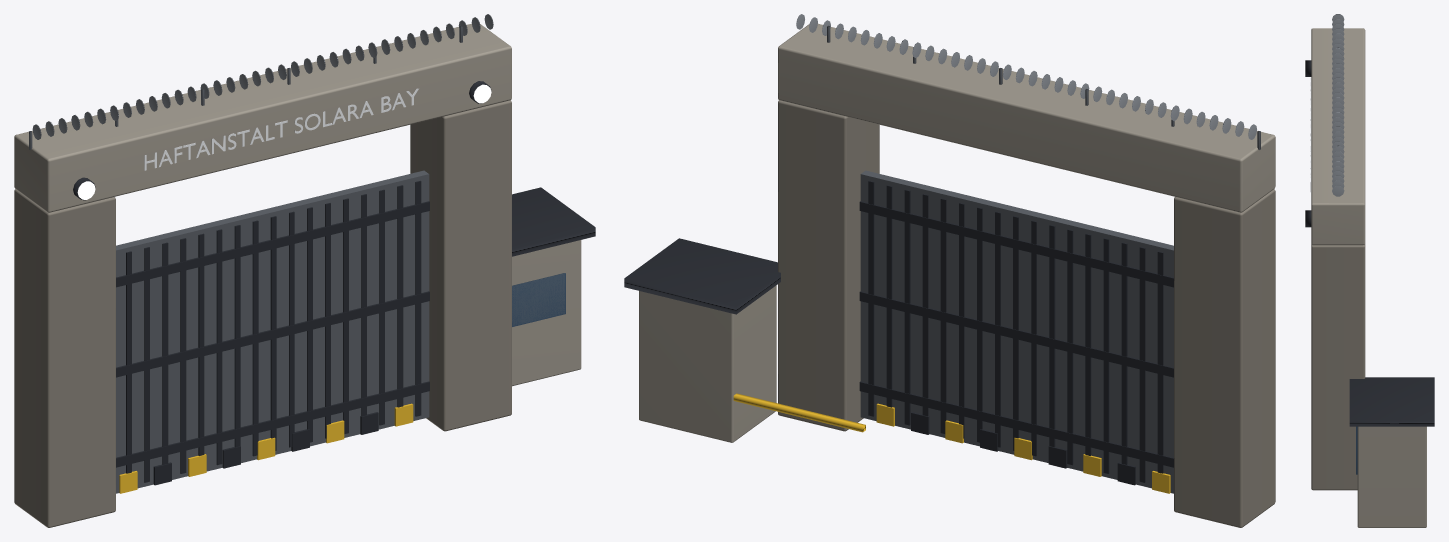
File: prison_gate.glb
3 views of the same model, side by side, from view 1: azimuth 30°, elevation 25°; view 2: azimuth 150°, elevation 25°; view 3: azimuth 270°, elevation 25° (orthographic). The views are drawn at different scales.
Parts seen in each view (by area): view 1: frame, gate; view 2: frame, gate; view 3: frame.
Part boxes in pixels (x1,y1,x2,y2): frame: (14,14,595,527); gate: (116,170,429,493); frame: (624,14,1275,527); gate: (859,170,1173,493); frame: (1304,14,1434,527).
Bounding box in the file's own units: 133 × 86.53 × 33.81.
